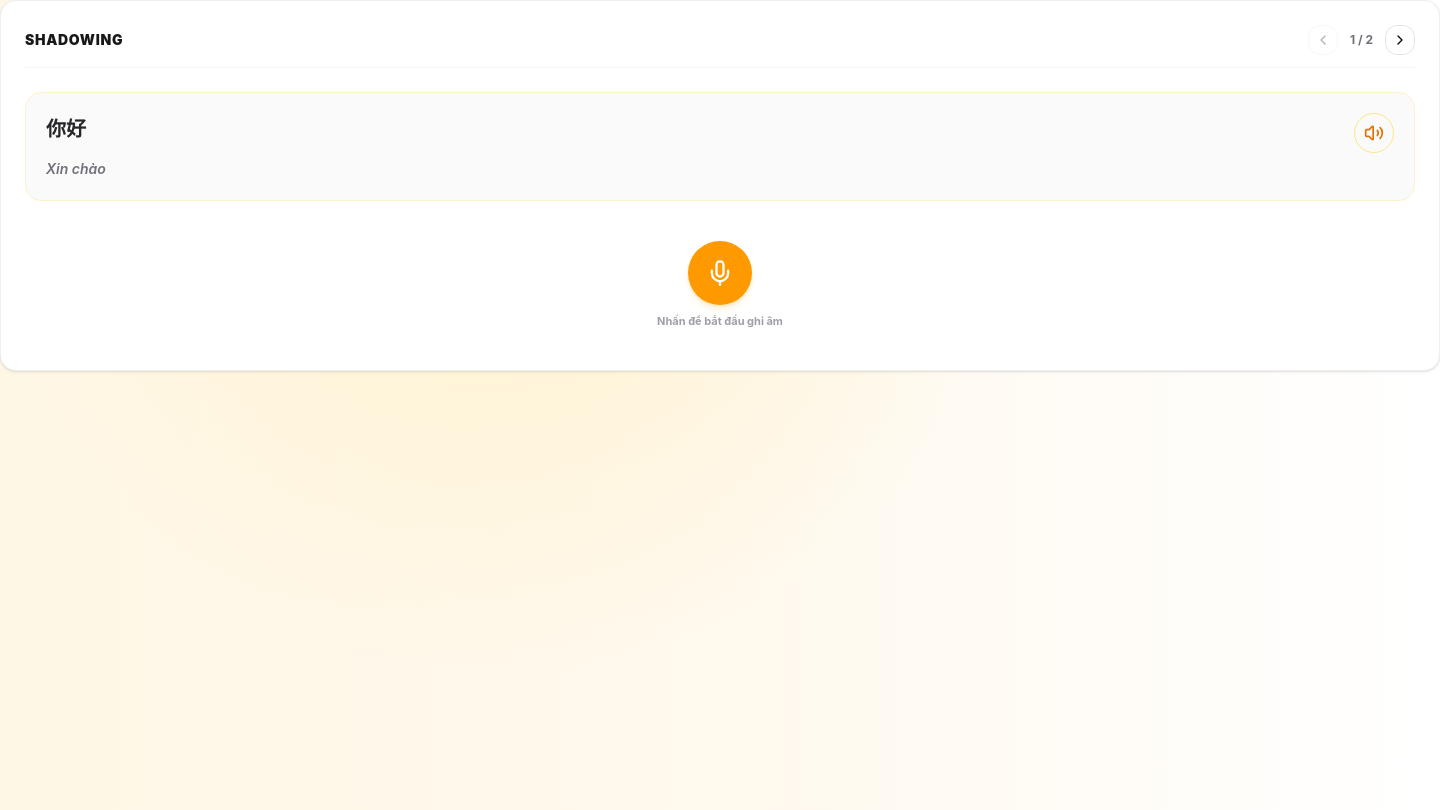
Scenario: BilingualShadowing › reset button clears feedback
Click the button titled "Bắt đầu ghi âm".
click(720, 273)  # box x1=688 y1=241 x2=752 y2=305
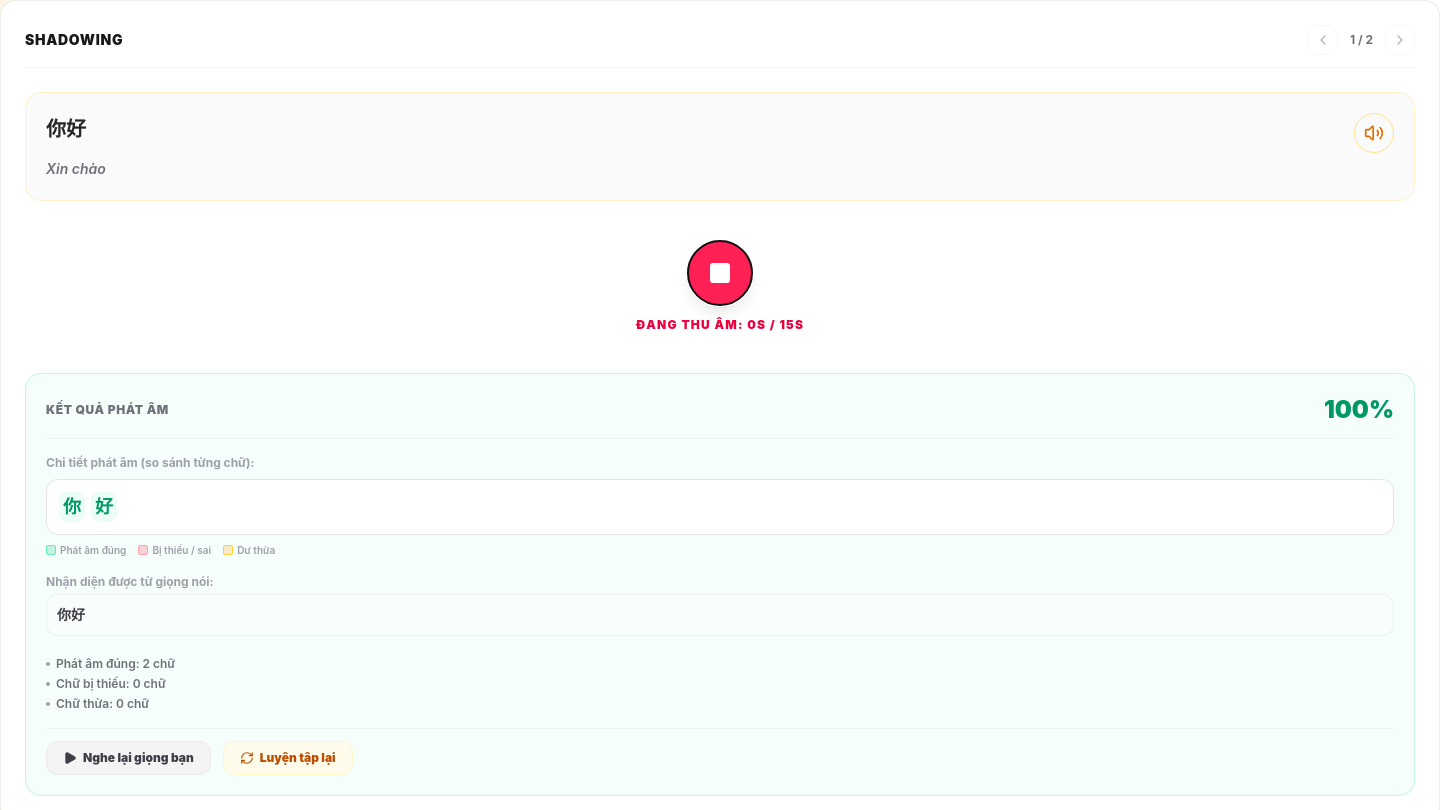
Now the text "Kết quả phát âm" is shown, box x1=46 y1=402 x2=169 y2=418
Click the button "Luyện tập lại".
click(288, 758)  # box x1=223 y1=740 x2=353 y2=774
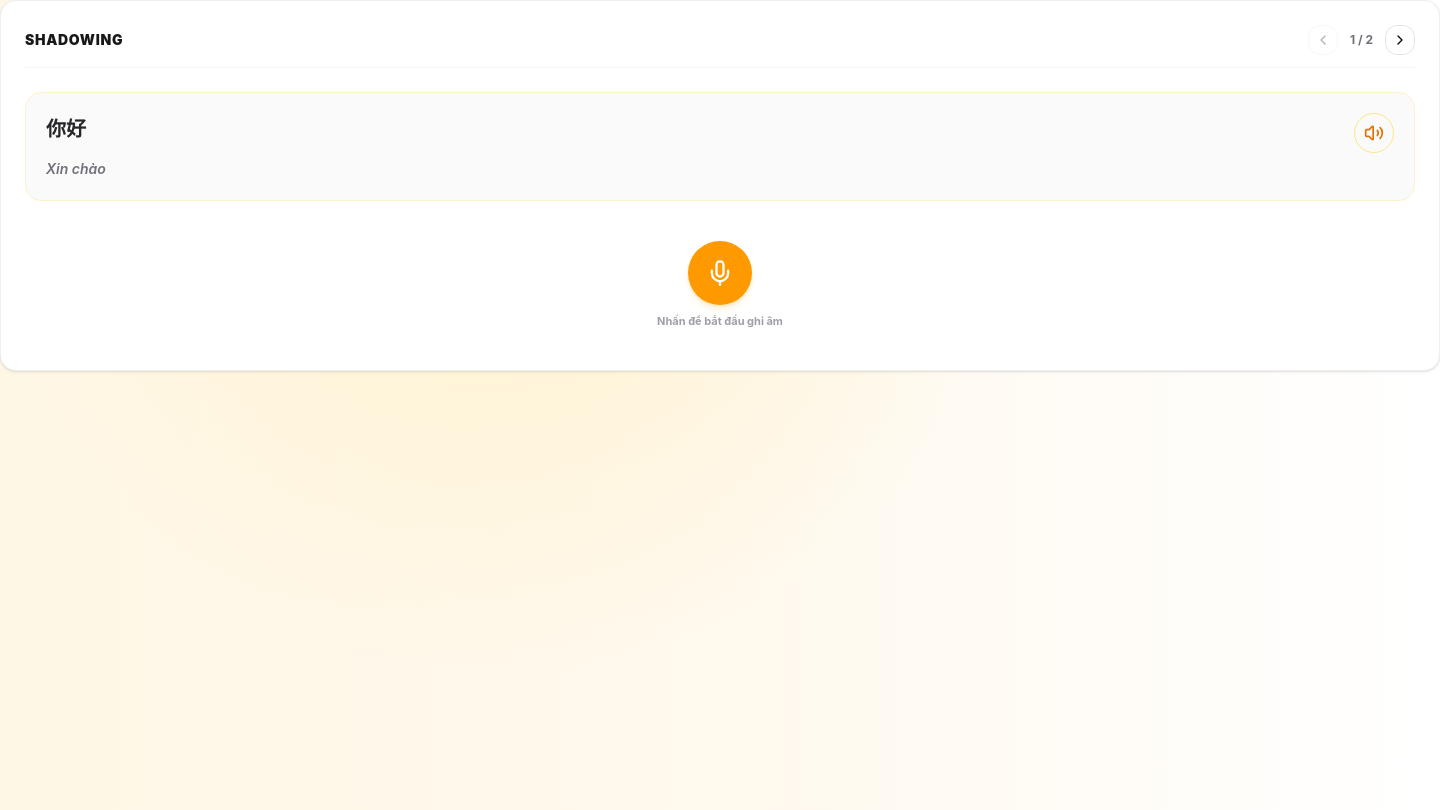
Now the text "Kết quả phát âm" is gone
